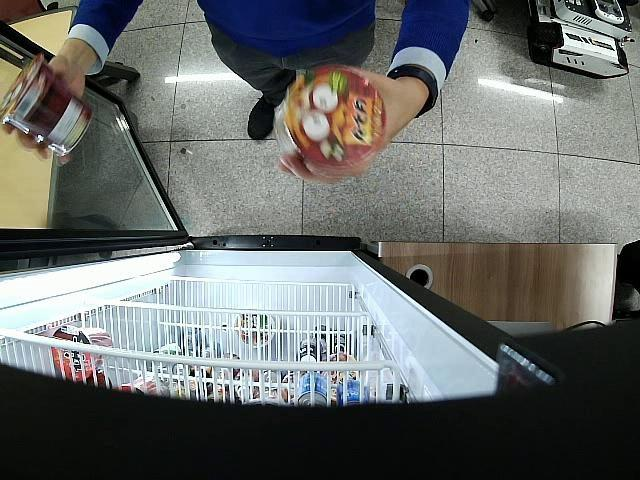06_nuguri_S: (284, 66, 388, 169), (0, 53, 95, 156)
